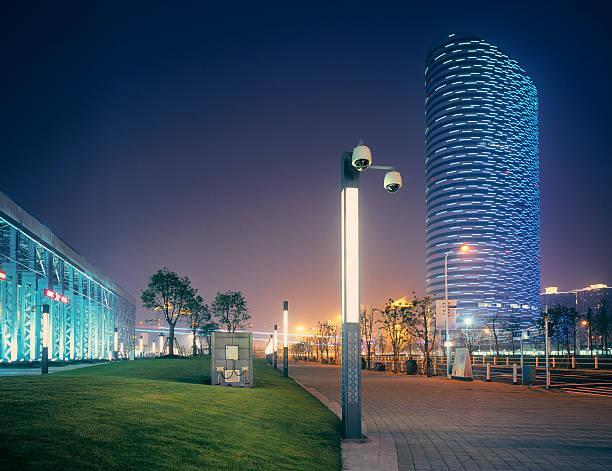camera: (324, 134, 376, 175), (369, 163, 418, 200)
